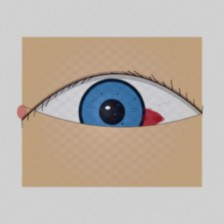hemorrhage_spot: (83, 82, 175, 155)
